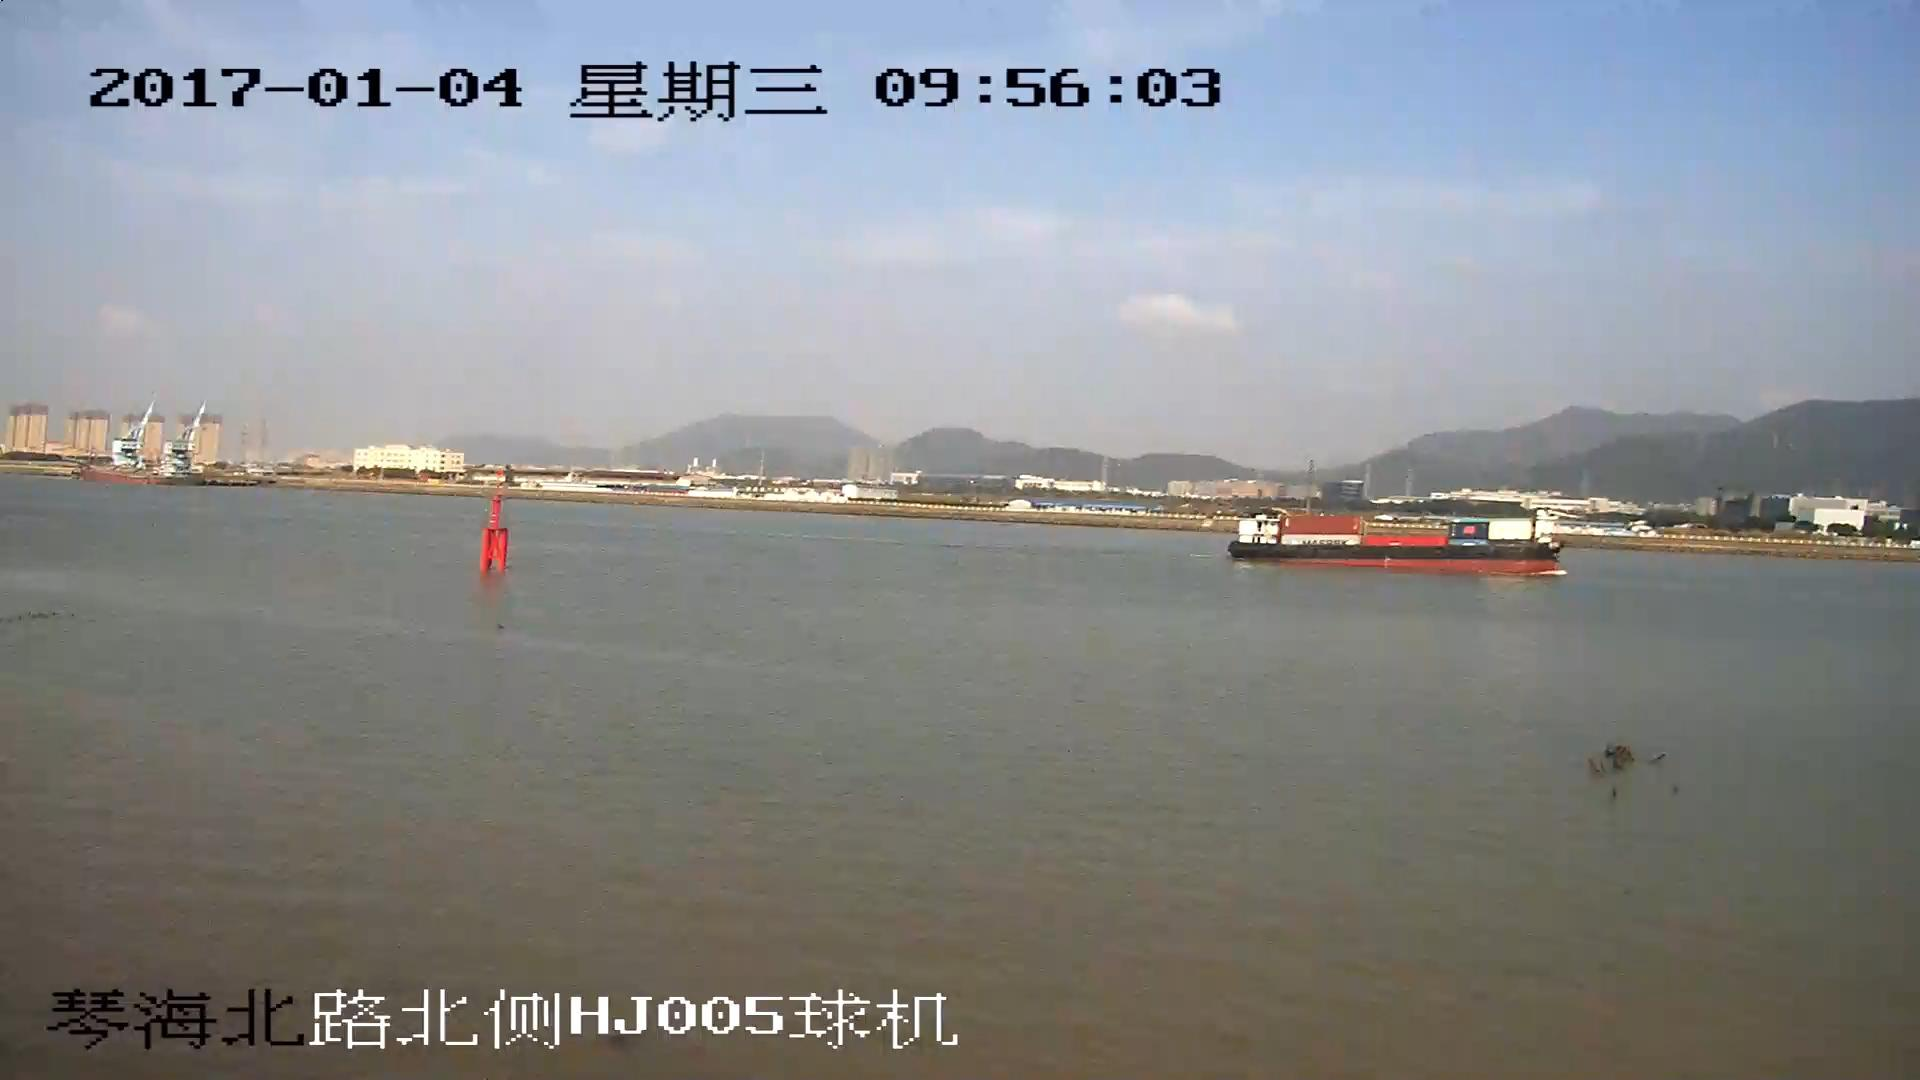Ship: (1234, 509, 1557, 574)
